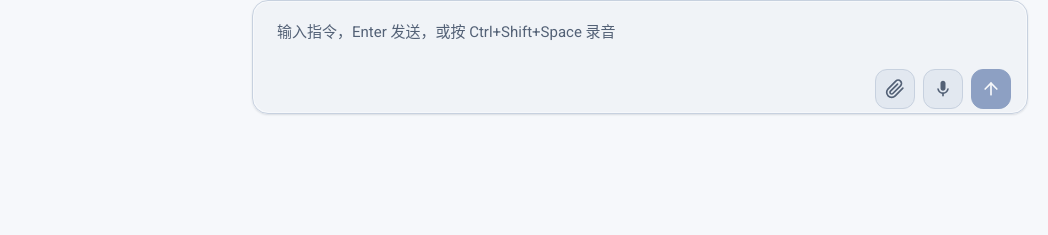
Test: Composer context menu › clears the draft from the menu
In the text box with placeholder "输入指令，Enter 发送，或按 Ctrl+Shift+Space 录音": coordinates (640, 33) [269,9,1011,57], type "drop me"
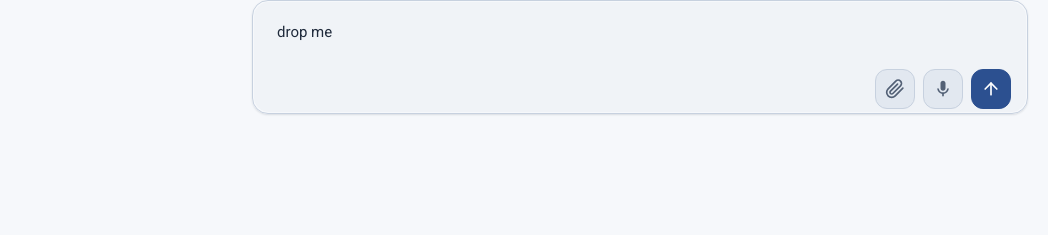
Right-click the text box: coordinates (640, 33) [269,9,1011,57]
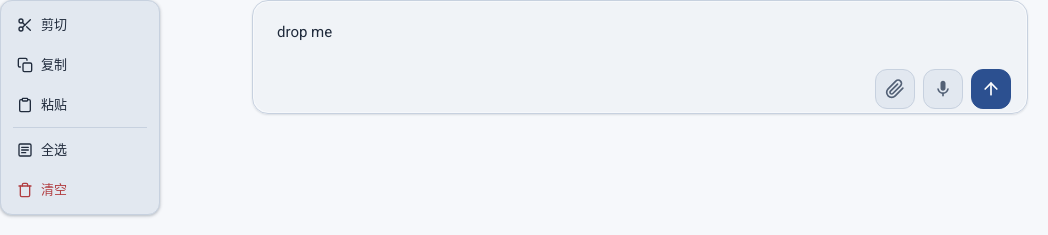
Click the menu item "清空": coordinates (80, 190) [5,170,155,210]
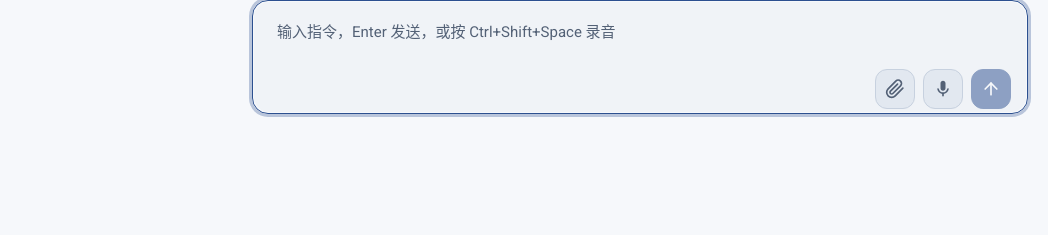
Expected: the text box with placeholder "输入指令，Enter 发送，或按 Ctrl+Shift+Space 录音" is empty, [269,9,1011,57]
